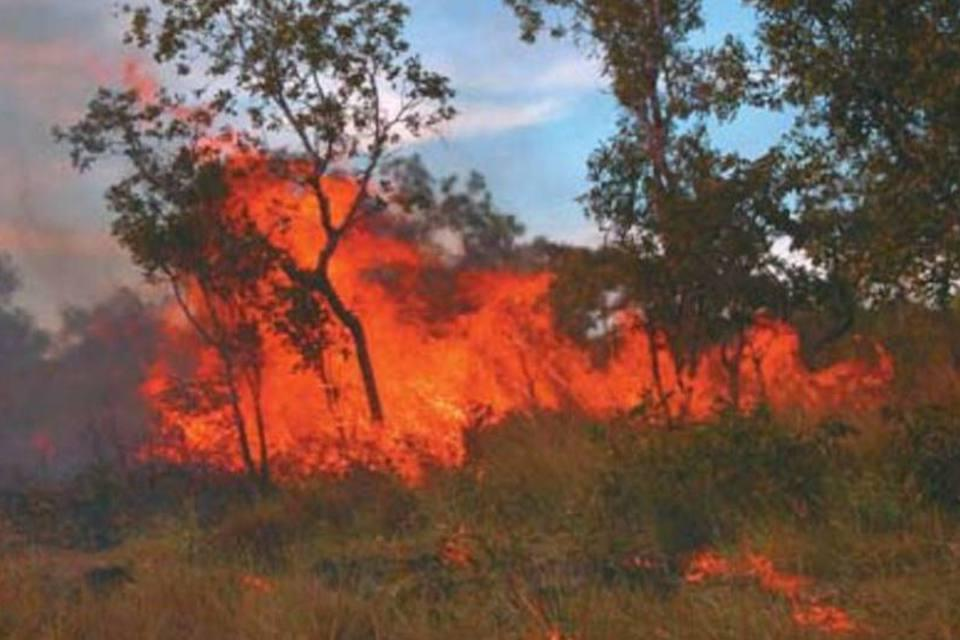Fire: (154, 122, 896, 475), (682, 554, 852, 632)
